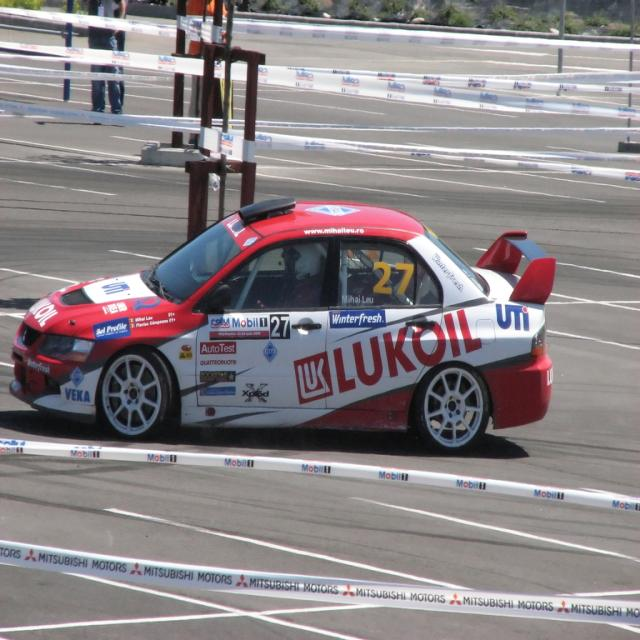car: (8, 198, 556, 440)
